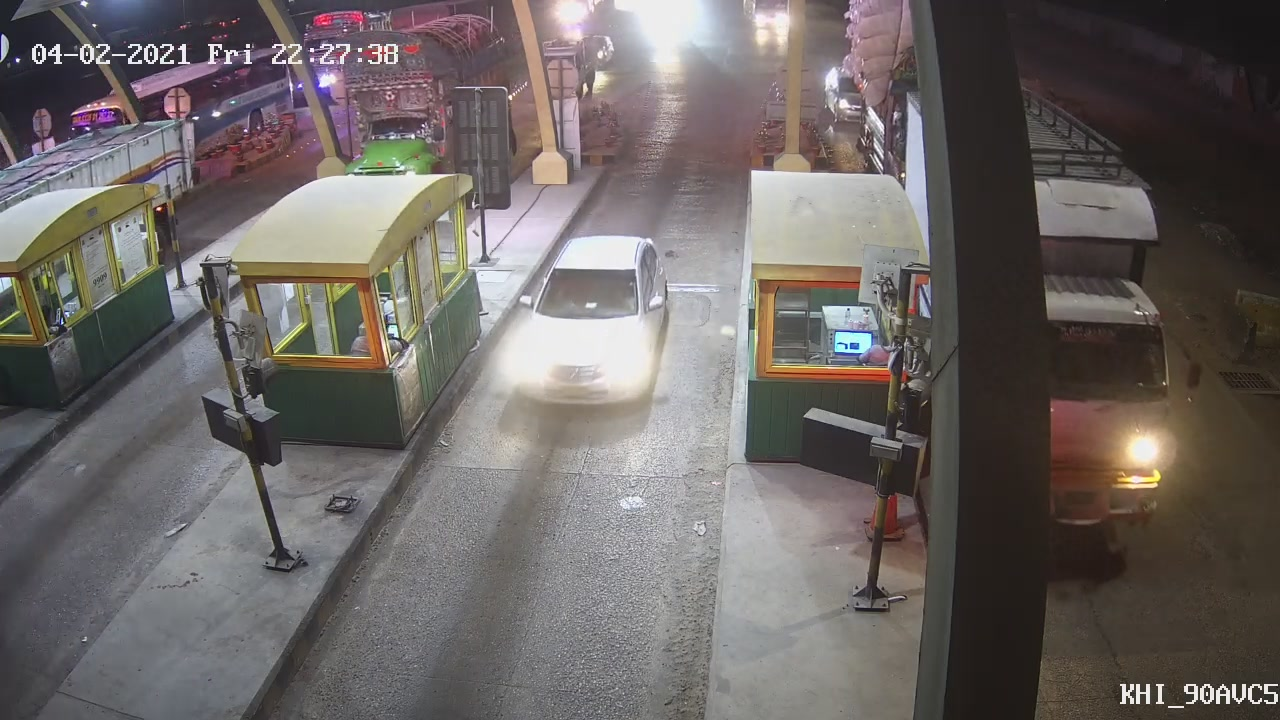F1: (500, 227, 672, 412)
